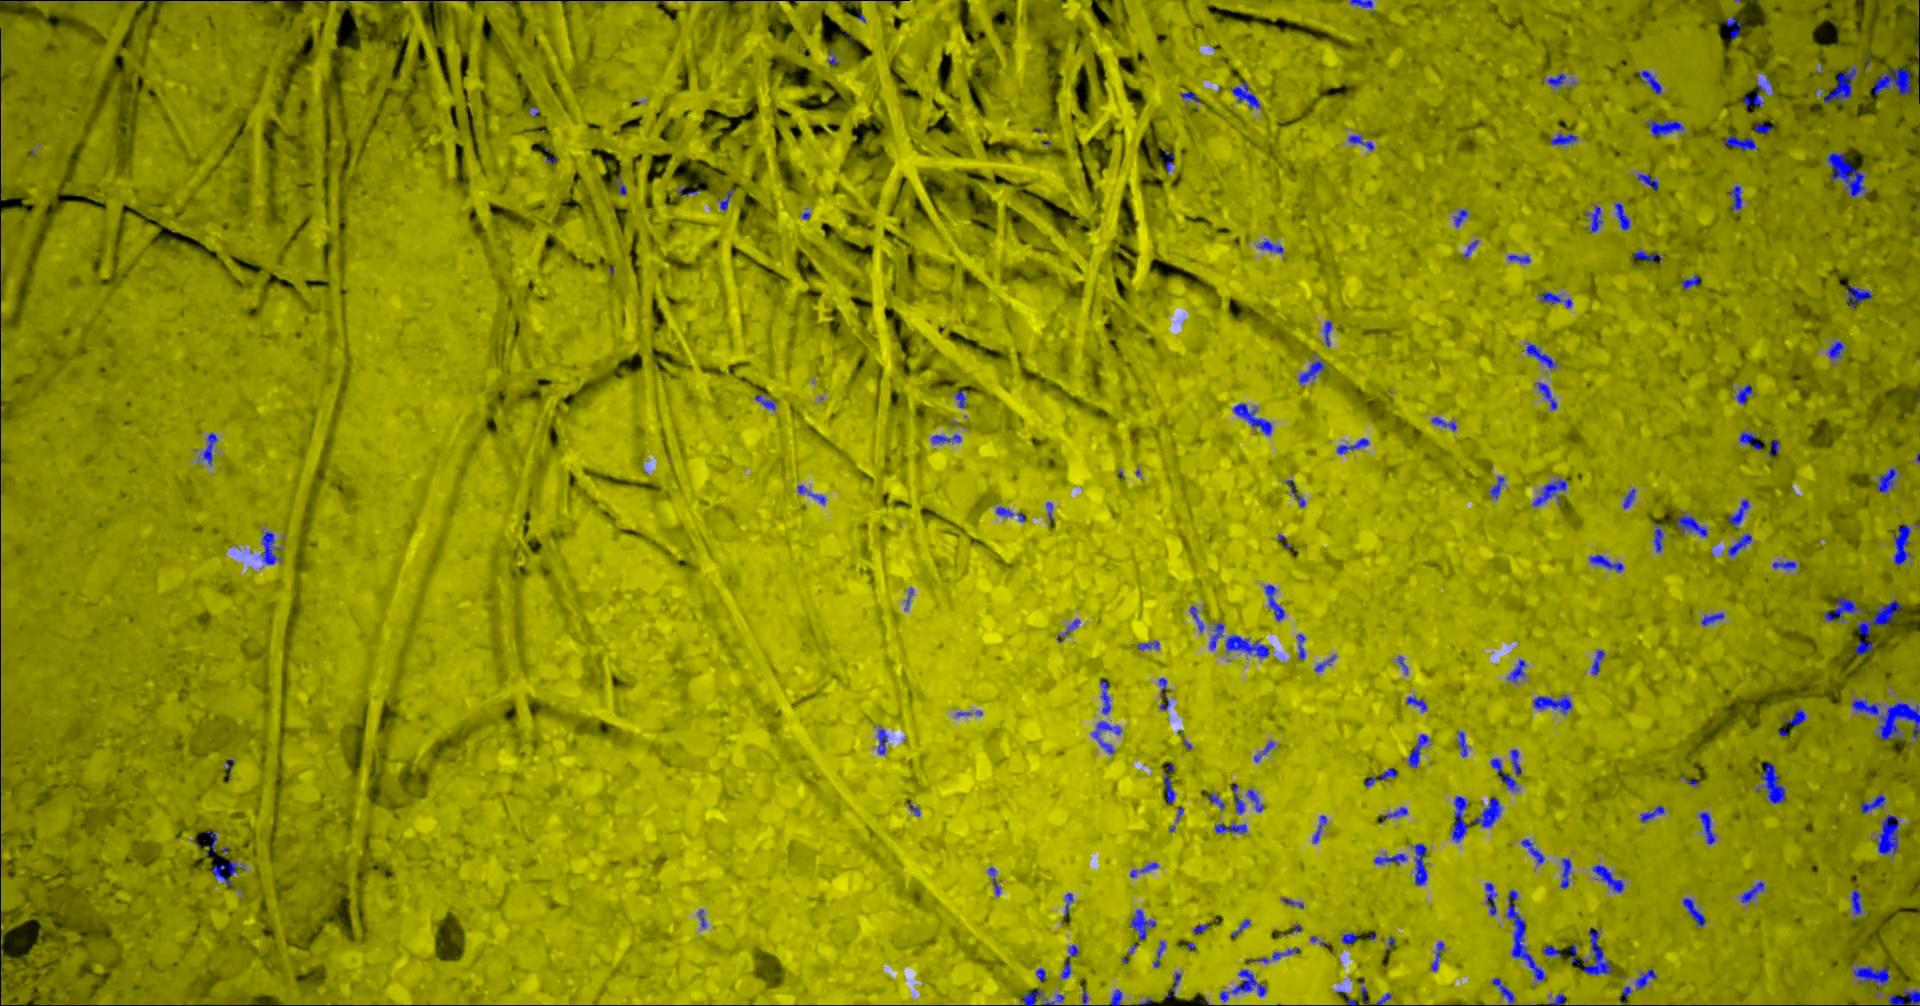ant: (1506, 889, 1545, 984), (1570, 927, 1611, 976), (1826, 151, 1867, 197), (1855, 600, 1901, 635), (1219, 969, 1266, 1001), (1232, 403, 1271, 434), (1755, 762, 1785, 803), (1870, 67, 1911, 95), (1823, 67, 1855, 103), (1823, 594, 1868, 620), (1225, 634, 1269, 658), (1531, 478, 1567, 506), (1876, 814, 1898, 857), (1490, 757, 1517, 791), (1091, 721, 1120, 753), (1473, 796, 1501, 827), (1592, 864, 1623, 892), (1891, 525, 1911, 565), (1129, 909, 1156, 940), (1531, 694, 1571, 714), (1230, 80, 1258, 108), (1777, 708, 1804, 735), (1451, 795, 1468, 842), (1525, 342, 1556, 367), (1676, 511, 1707, 536), (1851, 965, 1890, 986), (1263, 584, 1284, 620), (211, 860, 237, 887), (1408, 733, 1429, 767), (1411, 843, 1427, 885), (1683, 897, 1705, 926), (1298, 359, 1324, 384), (1491, 977, 1514, 1005), (1727, 499, 1749, 528), (198, 432, 217, 465), (260, 531, 279, 564), (1520, 838, 1544, 864), (1845, 285, 1872, 307), (1589, 554, 1623, 572), (1060, 944, 1078, 978), (1646, 119, 1683, 136), (1698, 810, 1716, 843), (1637, 70, 1661, 94), (1534, 382, 1556, 409), (1284, 479, 1305, 506), (1538, 291, 1572, 307), (1727, 533, 1751, 556), (1336, 437, 1369, 453), (797, 485, 825, 504), (1057, 619, 1079, 641), (1740, 880, 1764, 902), (1585, 205, 1603, 232), (1876, 467, 1896, 492), (1859, 794, 1884, 813), (1887, 989, 1919, 1005), (1724, 135, 1755, 150), (1506, 658, 1525, 682), (1163, 763, 1175, 803), (996, 506, 1025, 521), (1614, 202, 1630, 229), (1636, 968, 1656, 989), (1208, 622, 1223, 650), (1164, 972, 1181, 997), (1129, 862, 1158, 876), (1738, 431, 1761, 448), (1246, 788, 1263, 810), (1639, 805, 1663, 822), (1098, 680, 1110, 714), (1312, 815, 1326, 843), (987, 868, 1001, 895), (1232, 784, 1244, 814), (1382, 807, 1407, 822), (1373, 852, 1406, 864), (1484, 882, 1496, 915), (1189, 605, 1203, 631), (1430, 941, 1443, 970), (1349, 135, 1373, 150), (1727, 185, 1742, 210), (1724, 17, 1741, 38), (1637, 173, 1658, 189), (1313, 654, 1335, 671), (1431, 417, 1457, 431), (1590, 649, 1604, 674), (1509, 748, 1521, 775), (1230, 920, 1250, 937), (1152, 940, 1164, 967), (1736, 384, 1752, 404), (754, 394, 775, 410), (1022, 988, 1043, 1005), (1214, 823, 1246, 833), (1549, 132, 1577, 144), (1633, 250, 1661, 262), (1490, 475, 1503, 498), (717, 189, 733, 210), (1406, 696, 1426, 711), (1559, 857, 1570, 888), (1272, 948, 1299, 959), (1653, 523, 1663, 553), (1257, 240, 1283, 251), (1827, 340, 1843, 359), (1700, 612, 1723, 625), (204, 829, 216, 855), (1742, 91, 1763, 105), (1622, 488, 1636, 508), (1295, 633, 1305, 661), (877, 727, 888, 754), (1850, 890, 1862, 915), (930, 434, 960, 443), (1545, 72, 1564, 86), (1681, 274, 1700, 288), (1854, 640, 1873, 654), (1457, 730, 1467, 756), (1209, 793, 1224, 809), (1453, 210, 1467, 227), (1043, 993, 1064, 1005), (1542, 944, 1561, 956), (1618, 986, 1630, 1005), (1137, 640, 1159, 650), (1771, 560, 1796, 569), (1380, 767, 1397, 780), (1178, 91, 1199, 102), (1507, 254, 1530, 263), (1768, 439, 1779, 457), (1547, 993, 1564, 1005), (1323, 320, 1331, 345), (1109, 989, 1121, 1005), (1164, 150, 1173, 171), (954, 390, 965, 406), (1341, 932, 1357, 944), (1064, 892, 1072, 916), (1754, 123, 1771, 133), (1349, 0, 1371, 8), (1192, 923, 1209, 934)
